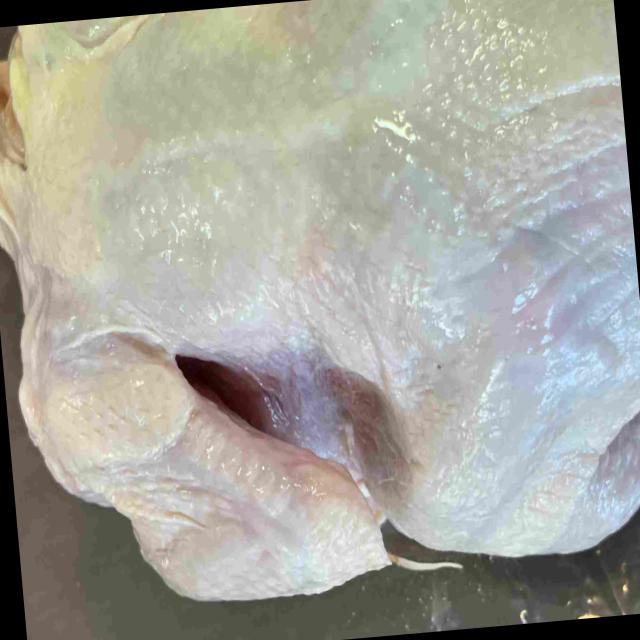back: (79, 0, 640, 399)
leg: (343, 372, 640, 559)
neck: (0, 30, 37, 262)
wing: (17, 333, 393, 603)
